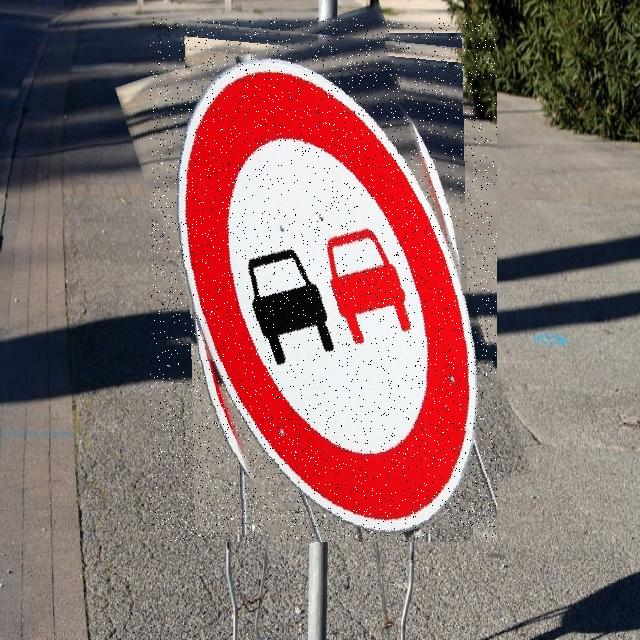no overtaking: (150, 18, 497, 542)
